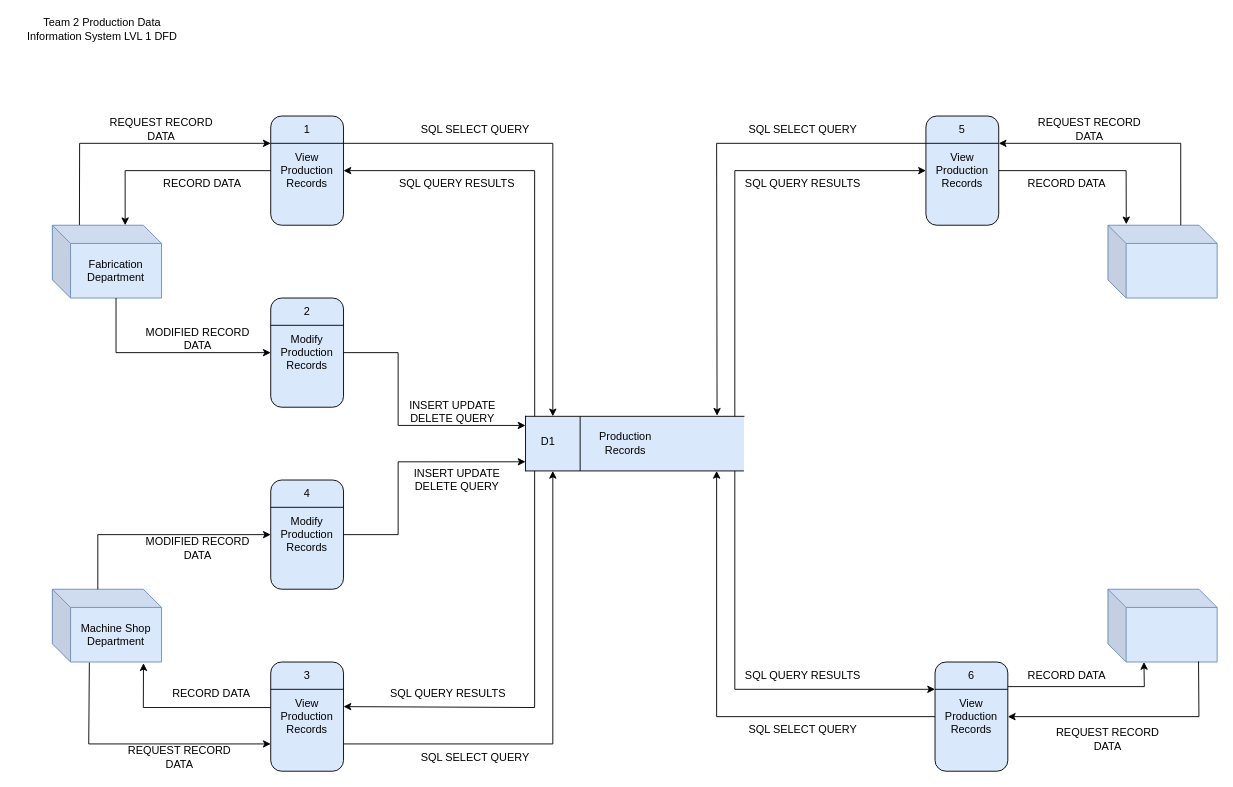
The diagram is 1233 pixels wide and 787 high, and some of its shapes have lost their labels. Here are the shapes that lost their labels. From the top down, the centre of each, then its label:
At (x=1162, y=261): "Quality Department".
At (x=1162, y=625): "Shipping Department".
